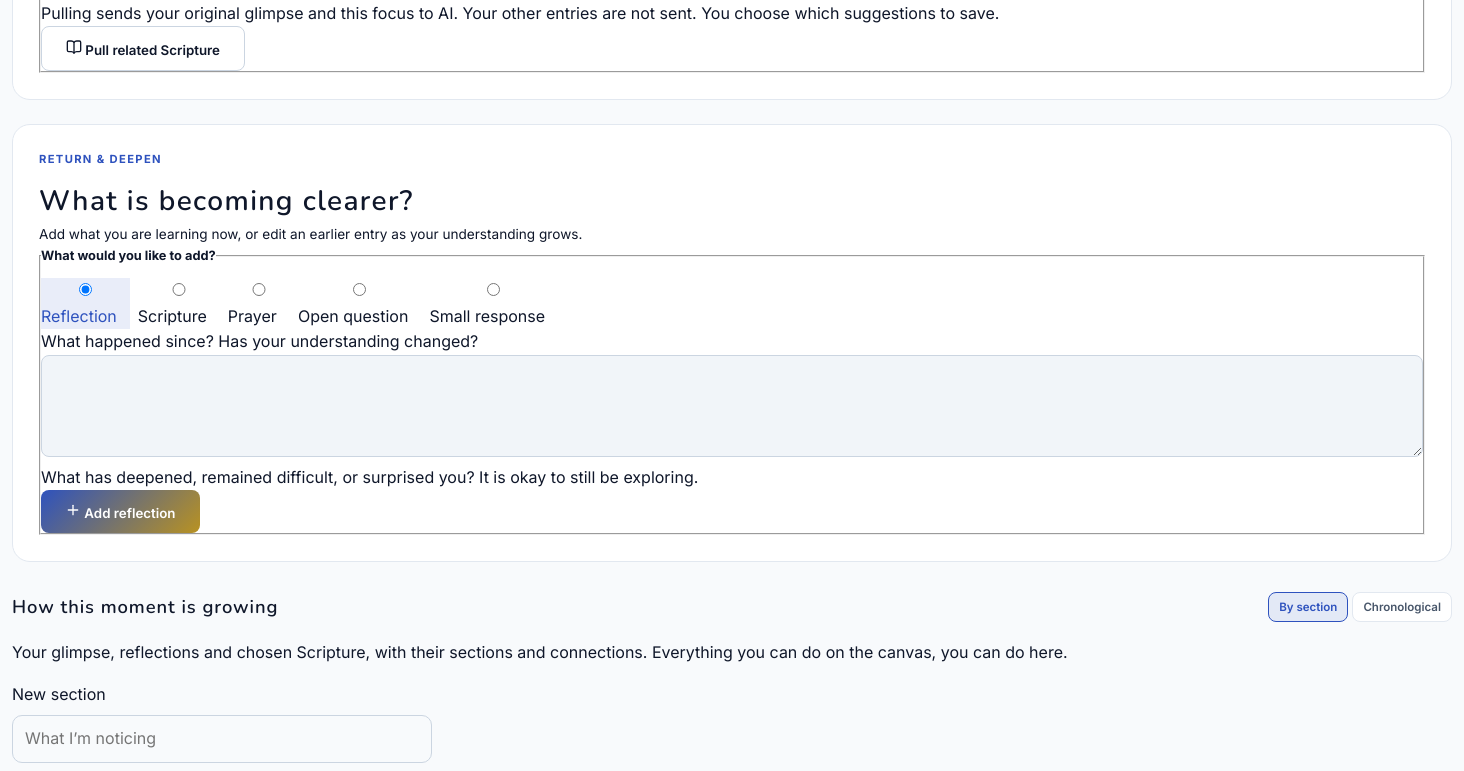
when saving does not go through › says a canvas was deleted elsewhere, and offers a copy but not a reload
This screenshot has width=1464, height=771.
(page scrolled)
In the text box labelled "What happened since? Has your understanding changed?": (732, 406) x1=41 y1=355 x2=1423 y2=457, type "Too late"
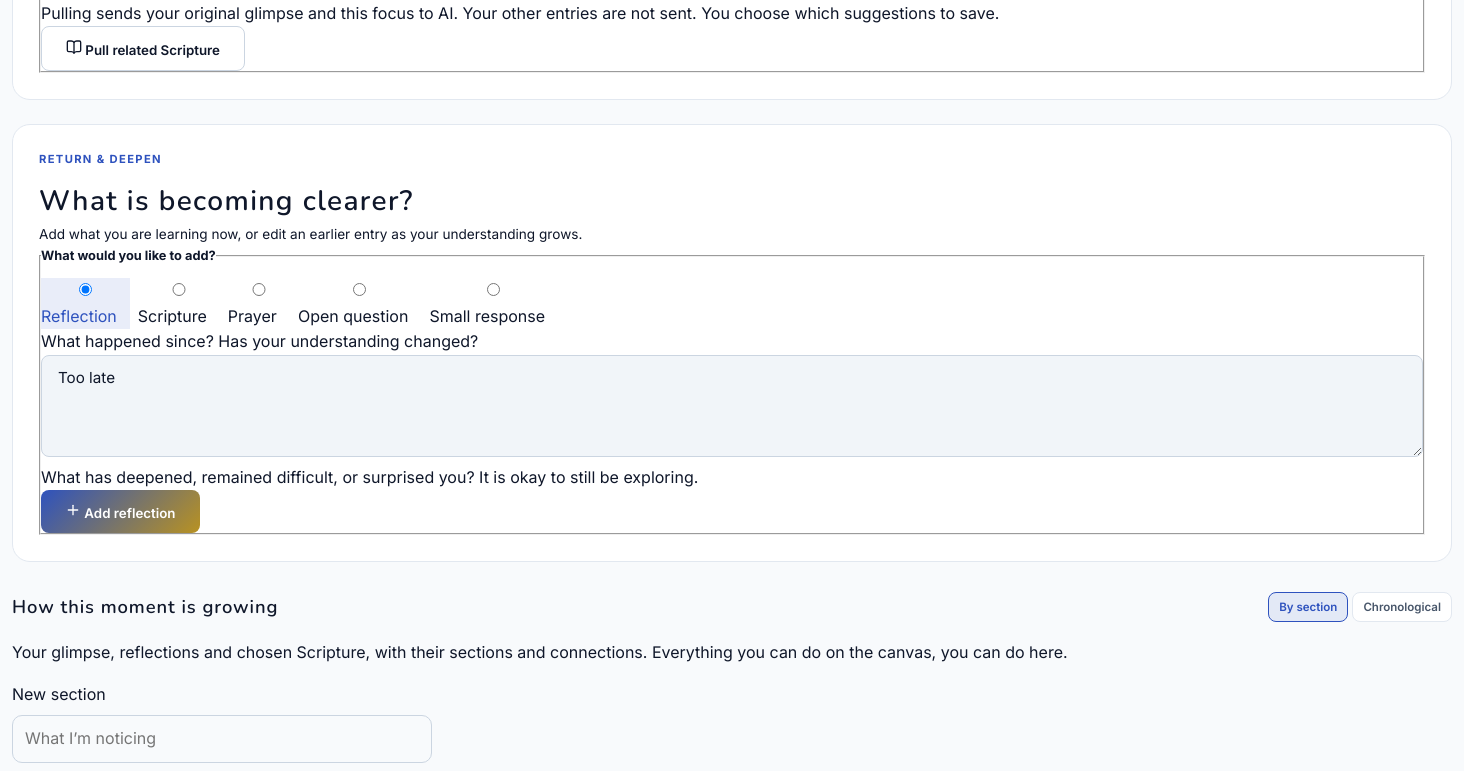
Click the button "Add reflection": click(120, 512) x1=41 y1=490 x2=200 y2=533
(page scrolled)
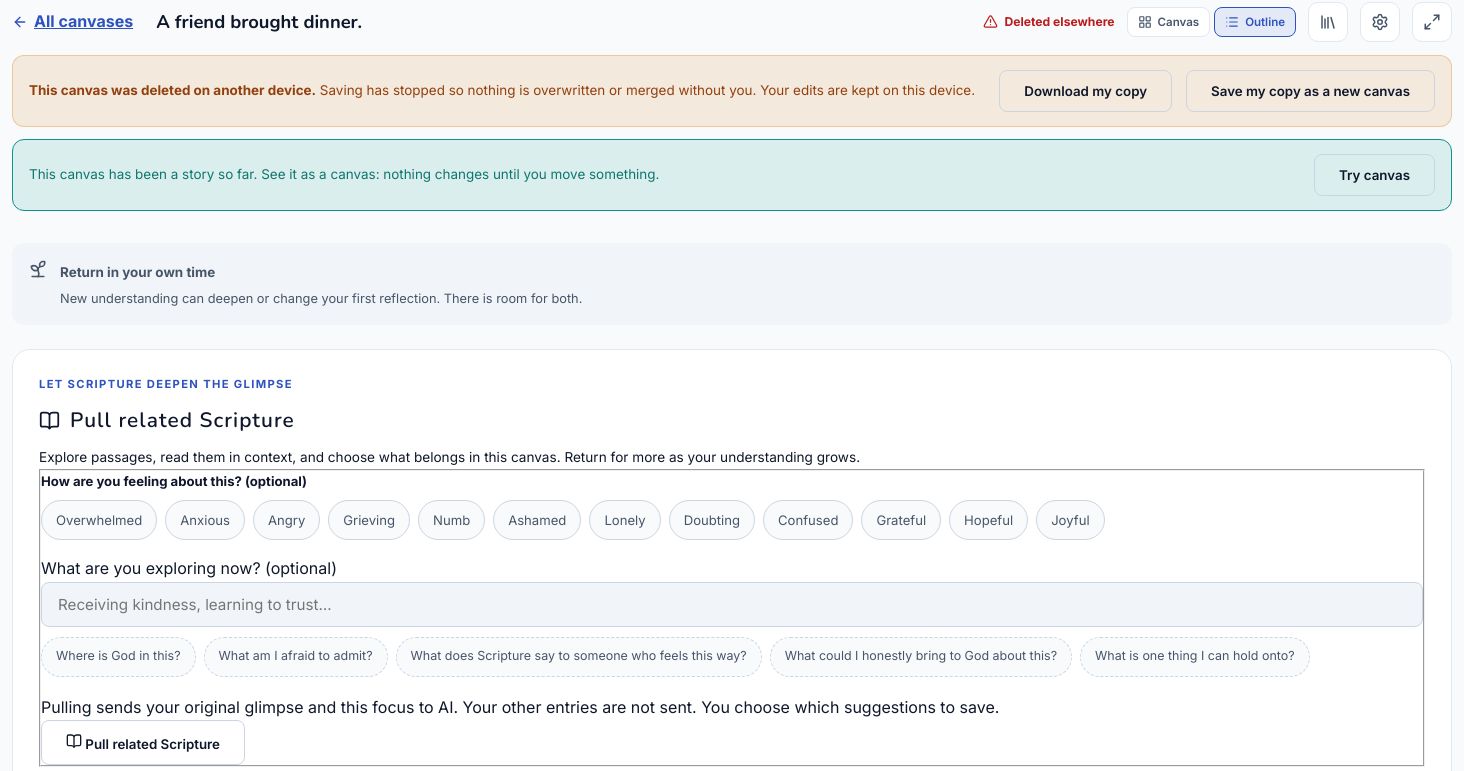
Check: the text "This canvas was deleted on another device." is shown, box x1=29 y1=82 x2=316 y2=98
Check: the button "Save my copy as a new canvas" is shown, box x1=1186 y1=70 x2=1435 y2=112
